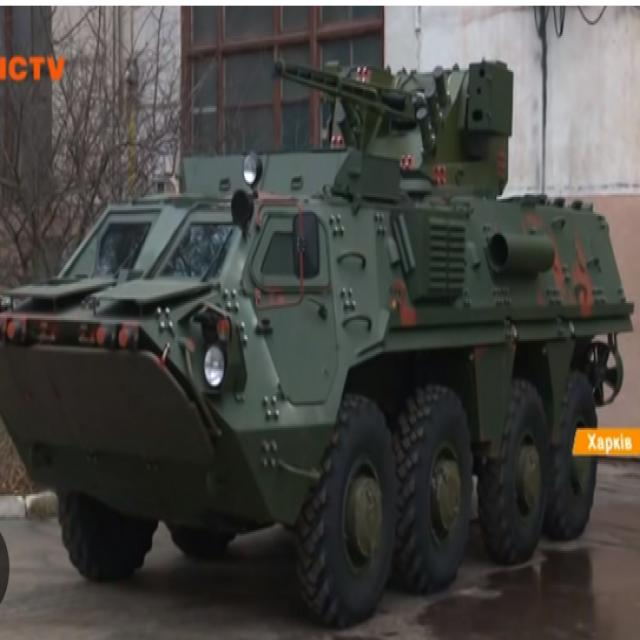MIL_APC: (16, 141, 633, 594)
